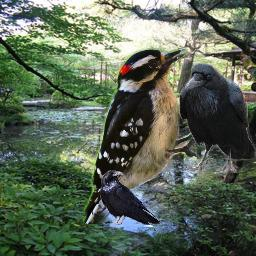Crow: (178, 62, 256, 173), (100, 170, 161, 232)
Woodpecker: (83, 47, 209, 224)
